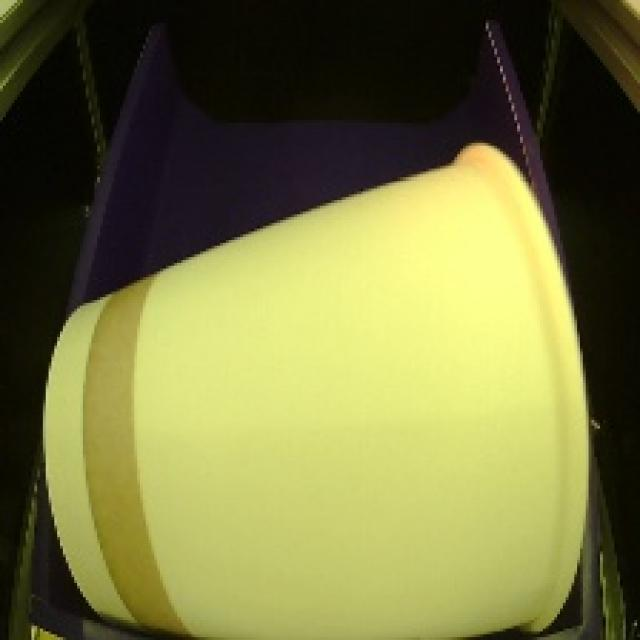cups: (30, 128, 595, 640)
